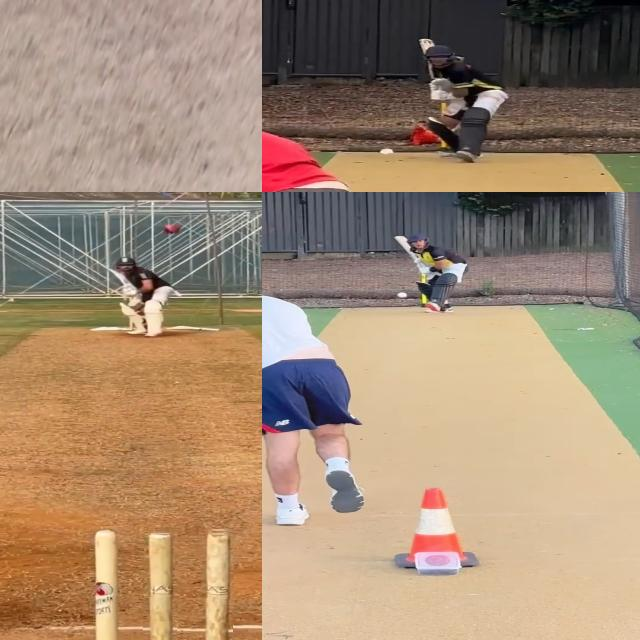Cricket ball: (162, 223, 181, 235), (378, 148, 395, 156), (396, 291, 413, 298)
Stumps: (93, 527, 234, 640)
